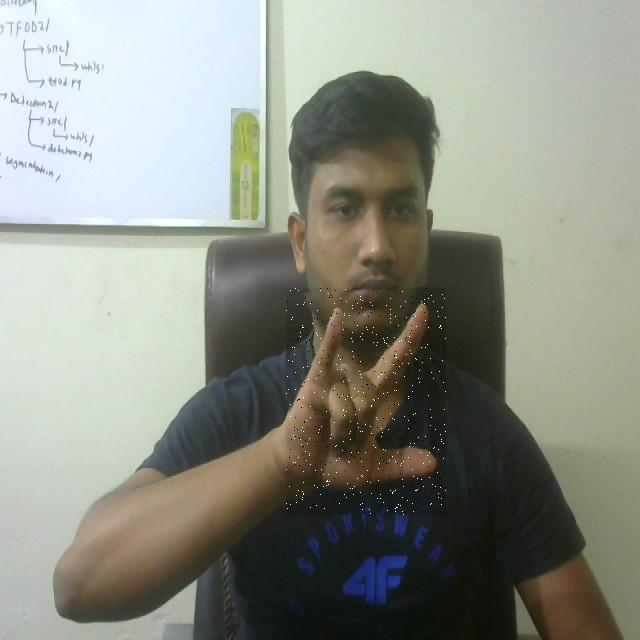IloveYou: (286, 288, 446, 515)
